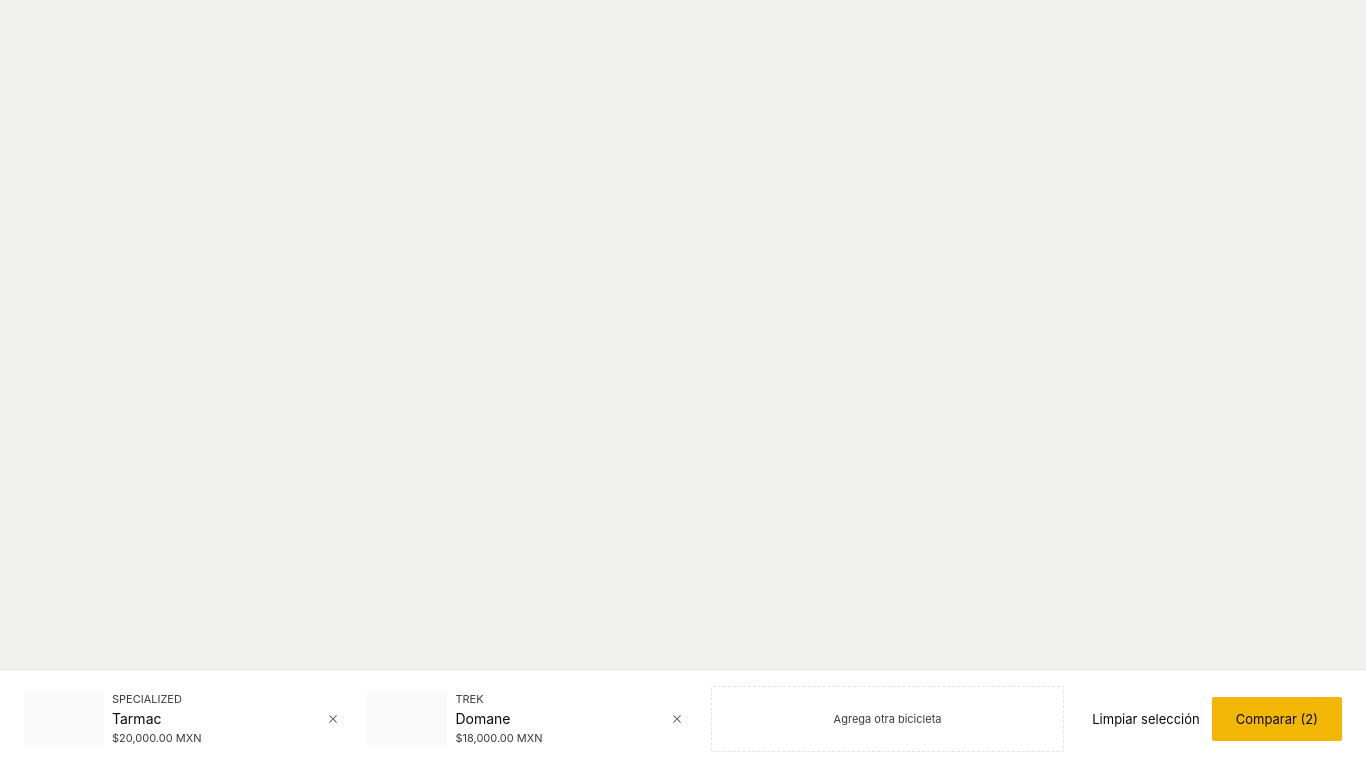
ComparisonTray › removing a slot drops just that bike
The image size is (1366, 768).
Check: the text "Tarmac" is shown, box [112,710,162,726]
Click the button named "Quitar Tarmac de la comparación". click: {"x": 333, "y": 719}
box: [323,709,343,729]
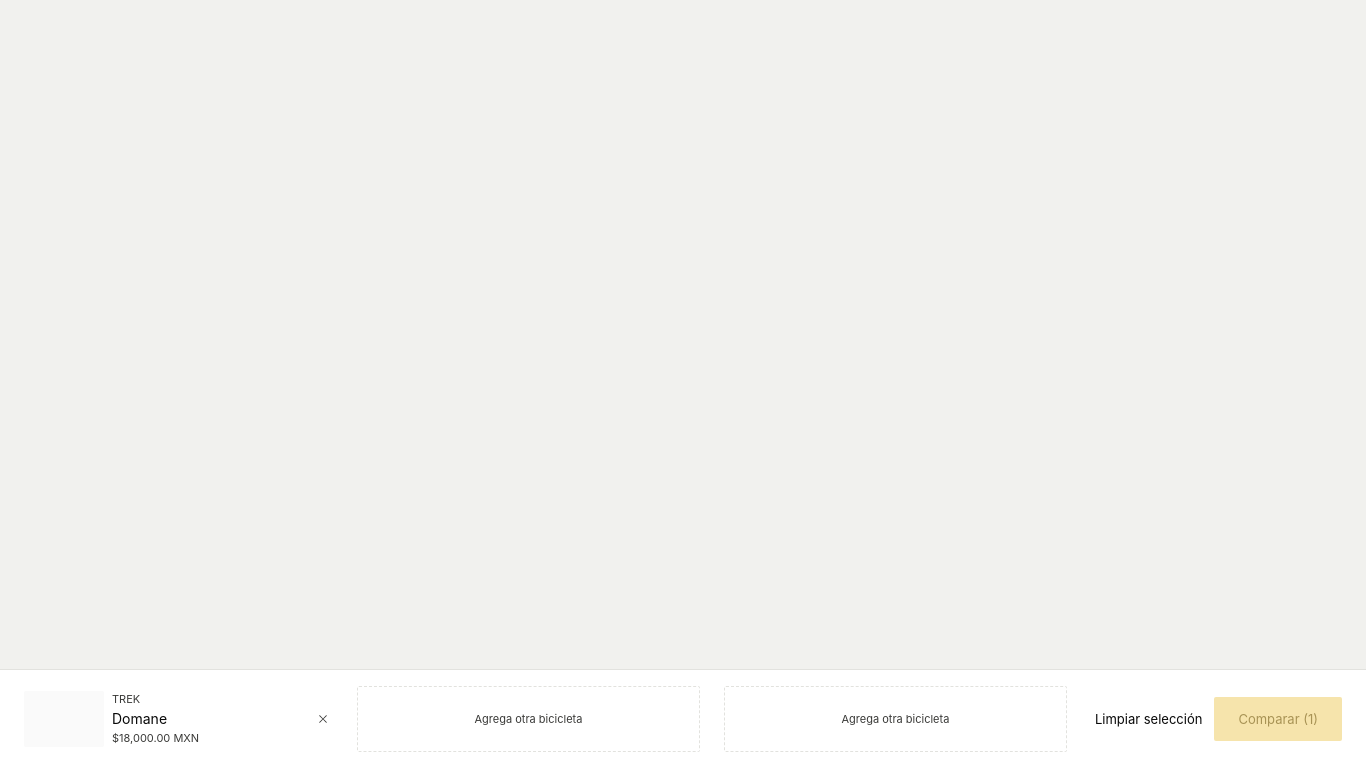
Check: the text "Domane" is shown, box [112,710,167,726]
Check: the text "Tarmac" is gone
